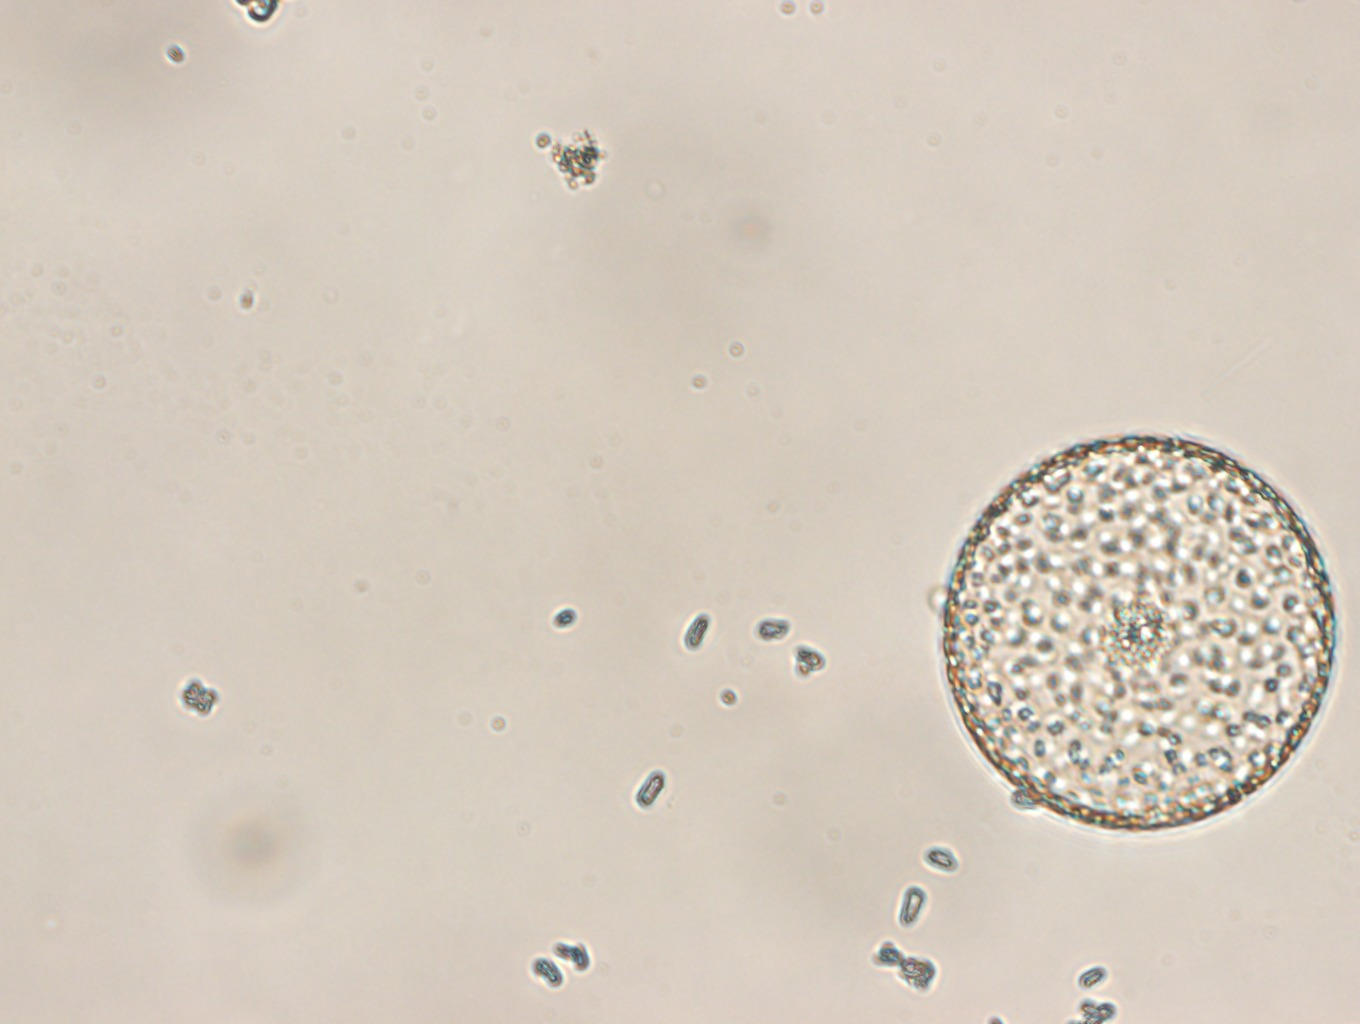coscinodiscus: (939, 433, 1342, 831)
